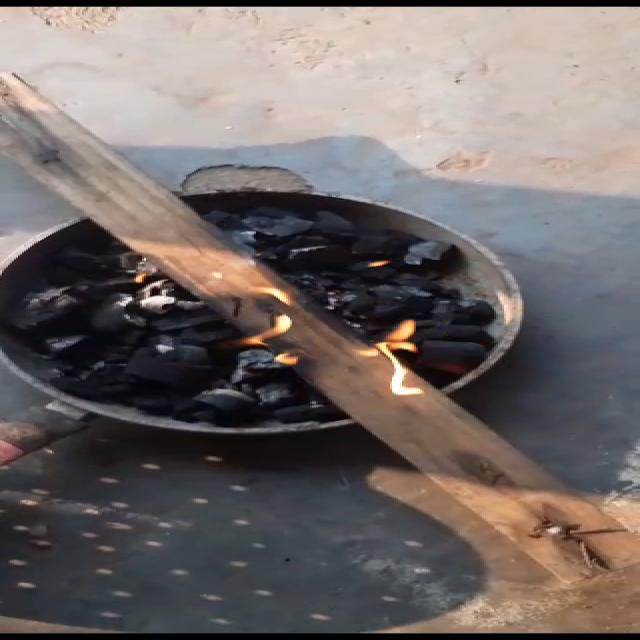Fire: (239, 278, 431, 417)
